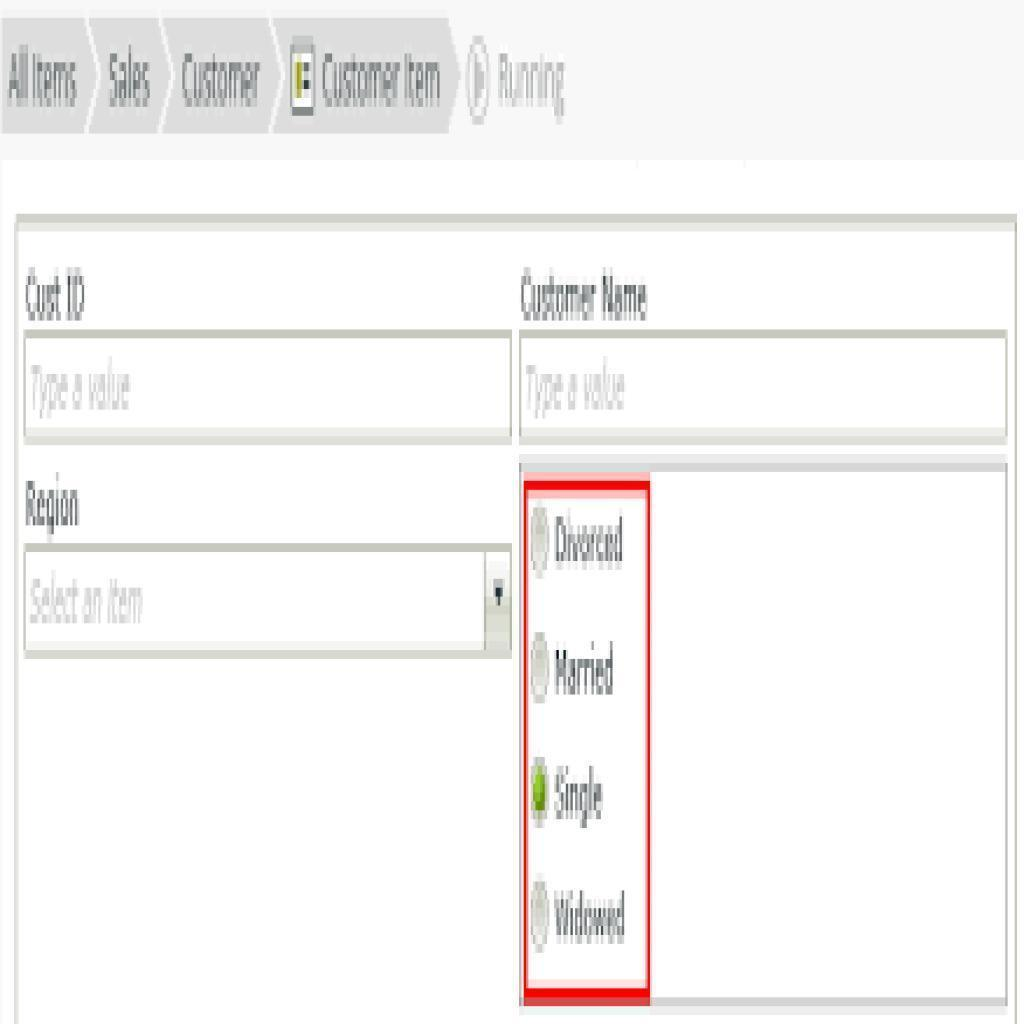dropdown: (23, 546, 512, 656)
input: (25, 334, 511, 439), (520, 334, 1008, 438)
radio: (527, 753, 555, 829), (528, 632, 551, 707), (529, 875, 550, 952), (530, 501, 549, 582)
